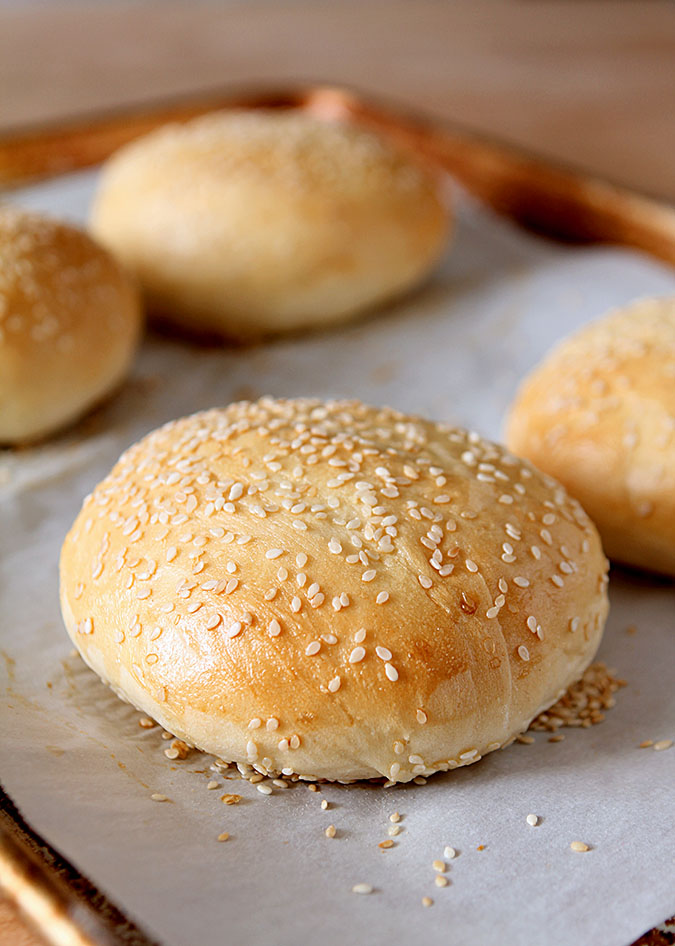hamburger_buns: (78, 385, 589, 777), (102, 86, 450, 329), (496, 294, 675, 532)
